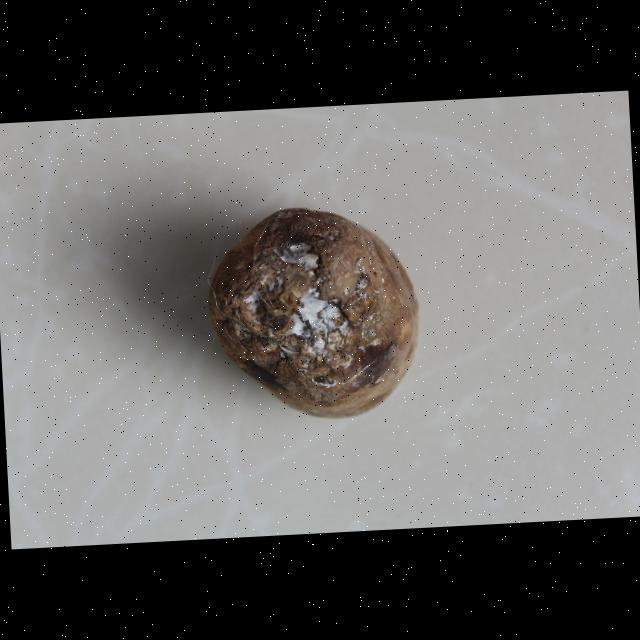Diseased-fungal potato: (190, 194, 435, 436)
